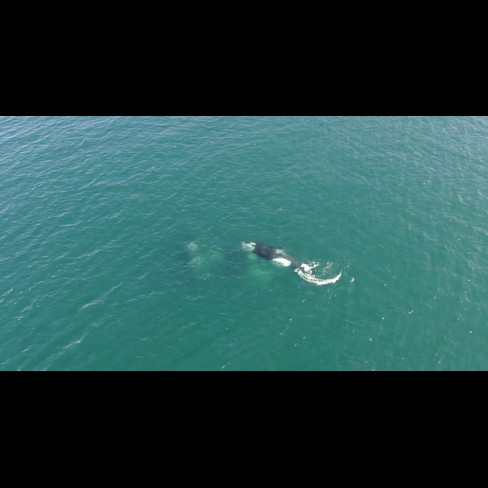orca: (237, 232, 344, 291)
